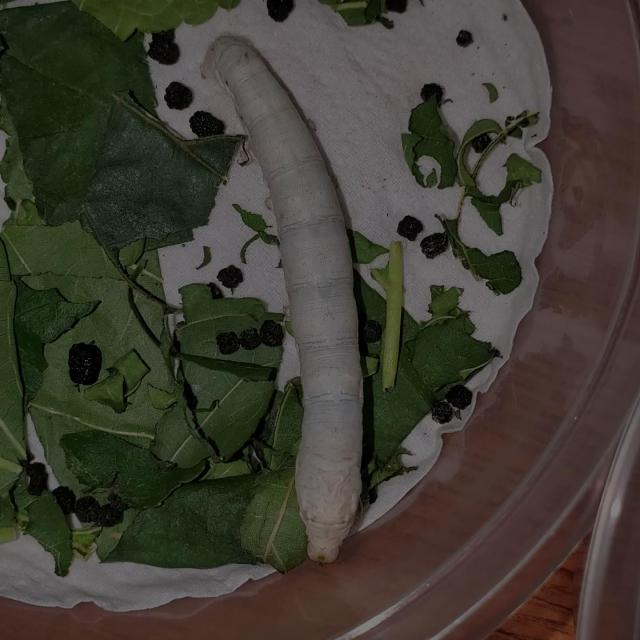Healthy: (190, 29, 379, 572)
